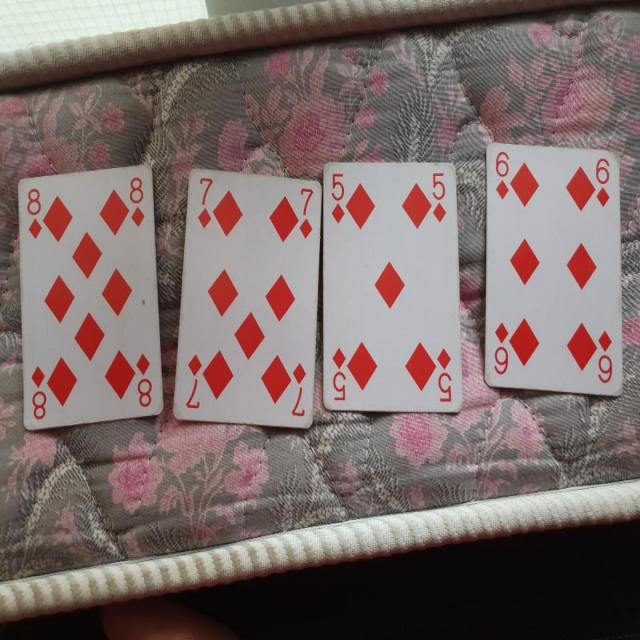5 Diamonds: (319, 157, 466, 418)
6 Diamonds: (482, 144, 623, 397)
7 Diamonds: (170, 166, 322, 430)
8 Diamonds: (15, 164, 165, 432)
